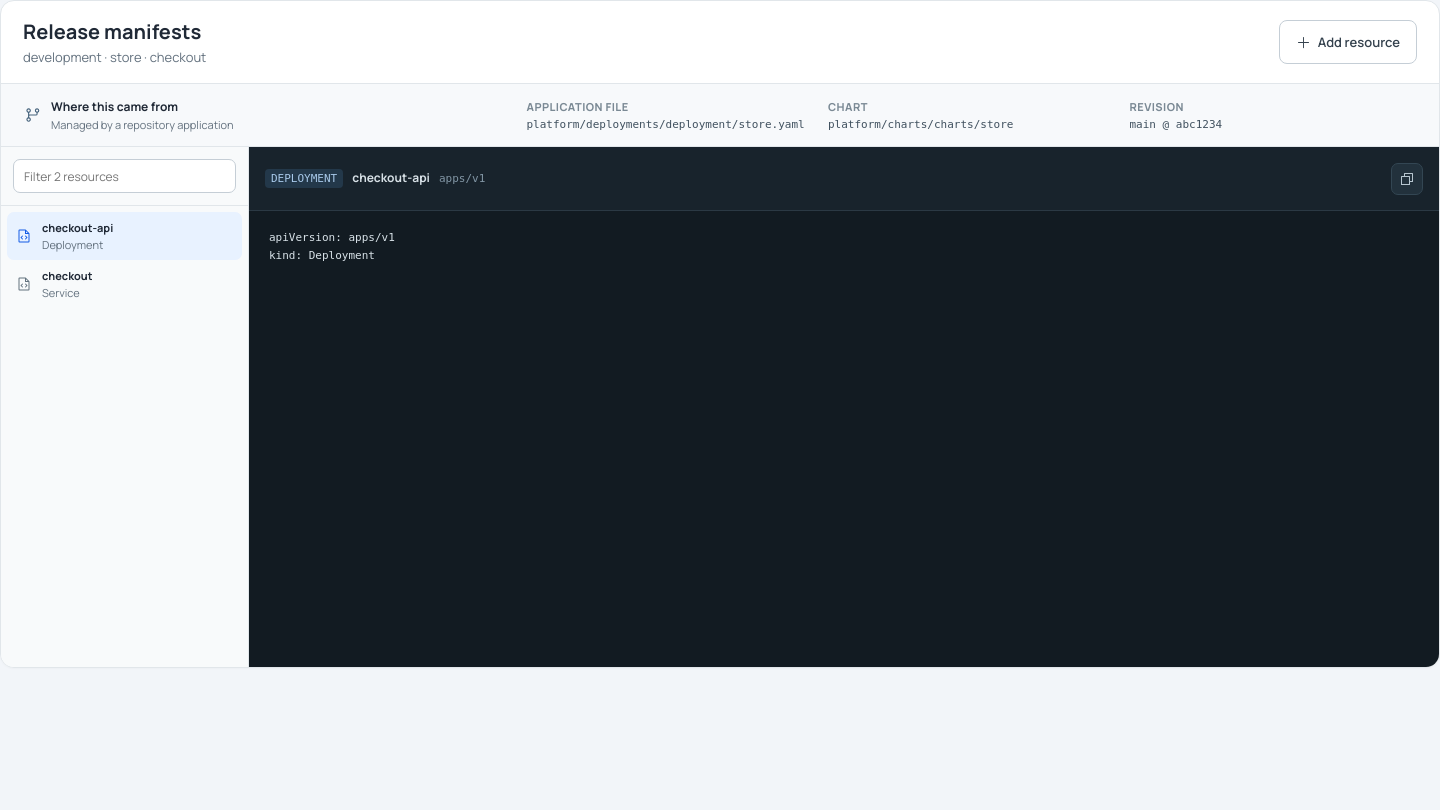
deployment manifests › shows live YAML, its source, and instructions for adding a resource
Expected: the text "checkout-api" is shown 2 times, [42, 220, 113, 235]; [352, 169, 430, 186]
Expected: the text "platform/deployments/deployment/store.yaml" is shown, [526, 118, 814, 131]
Click the button "Add resource".
click(1348, 42)  # box [1279, 20, 1417, 64]
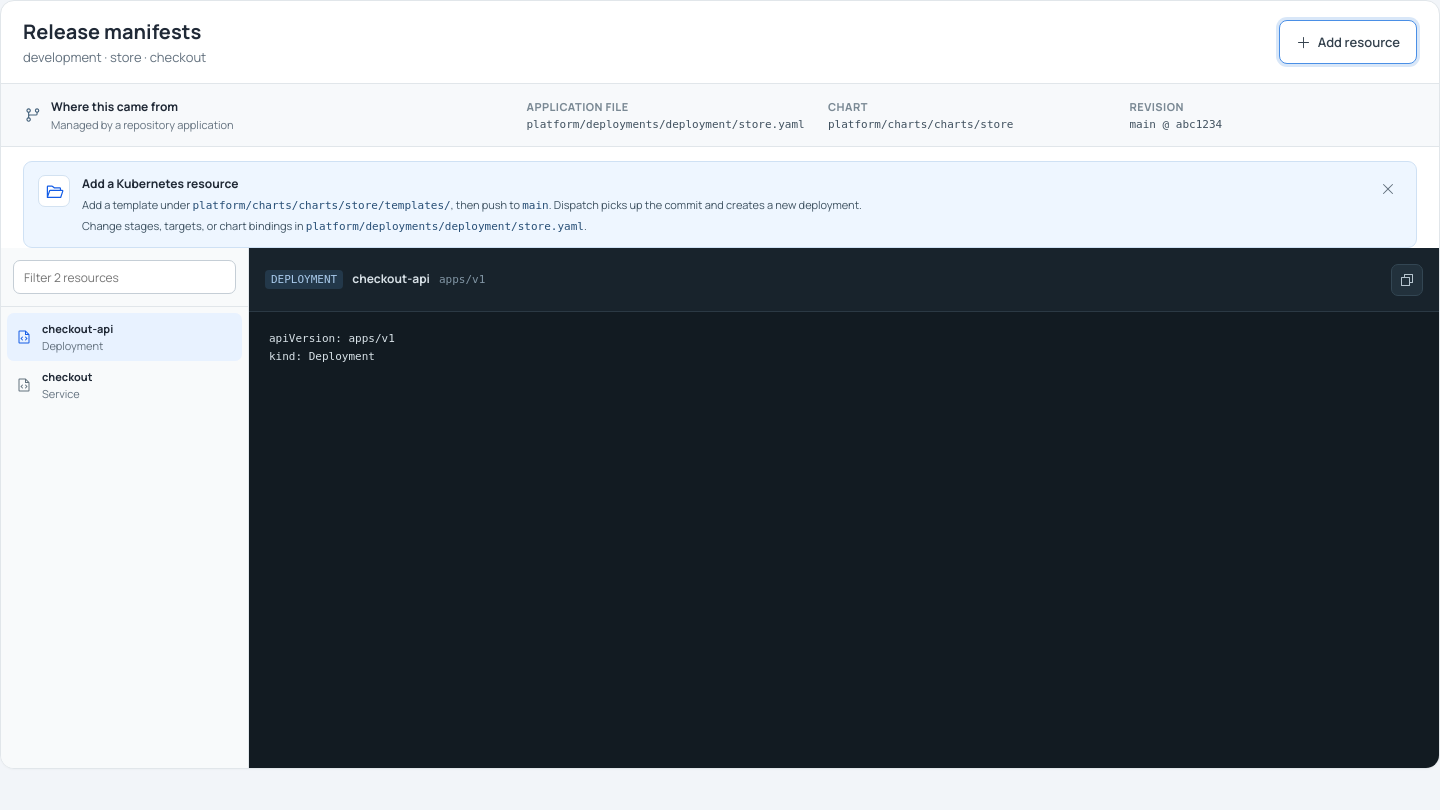
Expected: the text "platform/charts/charts/store/templates/" is shown, [192, 199, 451, 212]
Type "service" into the field named "Filter manifests".
click(124, 277); type("service")  # box [13, 260, 236, 294]
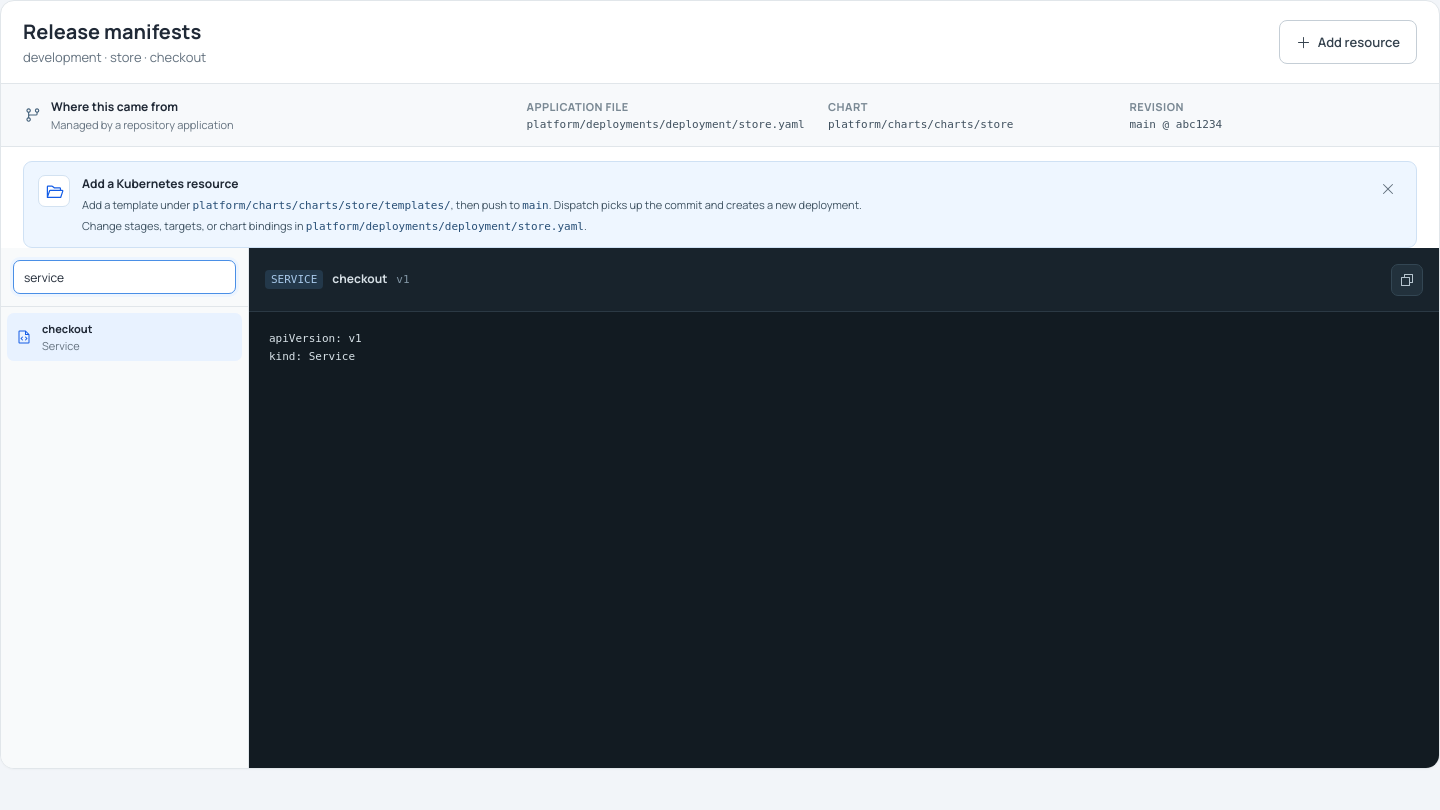
Expected: the button with aria-label "View Service checkout" is shown, [7, 313, 242, 361]
Expected: the button "checkout-api" is gone
